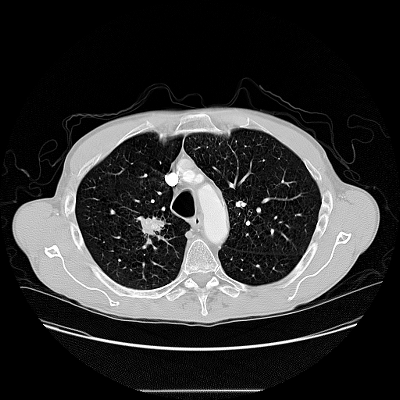nodule: (139, 215, 163, 239)
